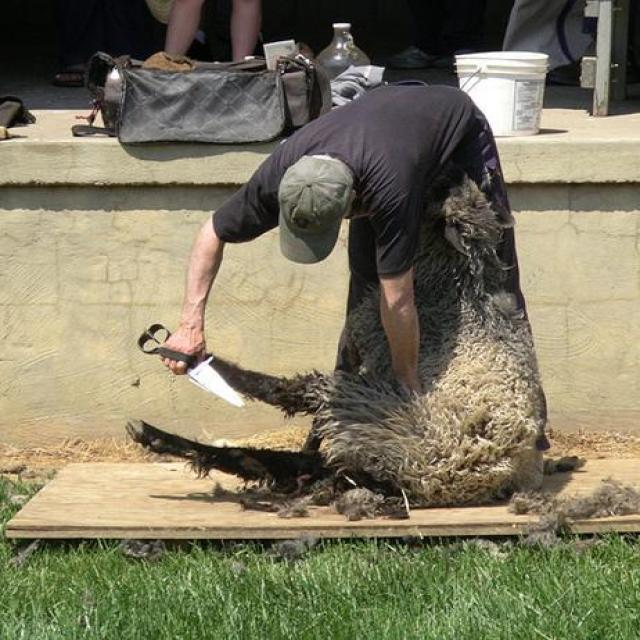Sheep: (129, 161, 547, 508)
